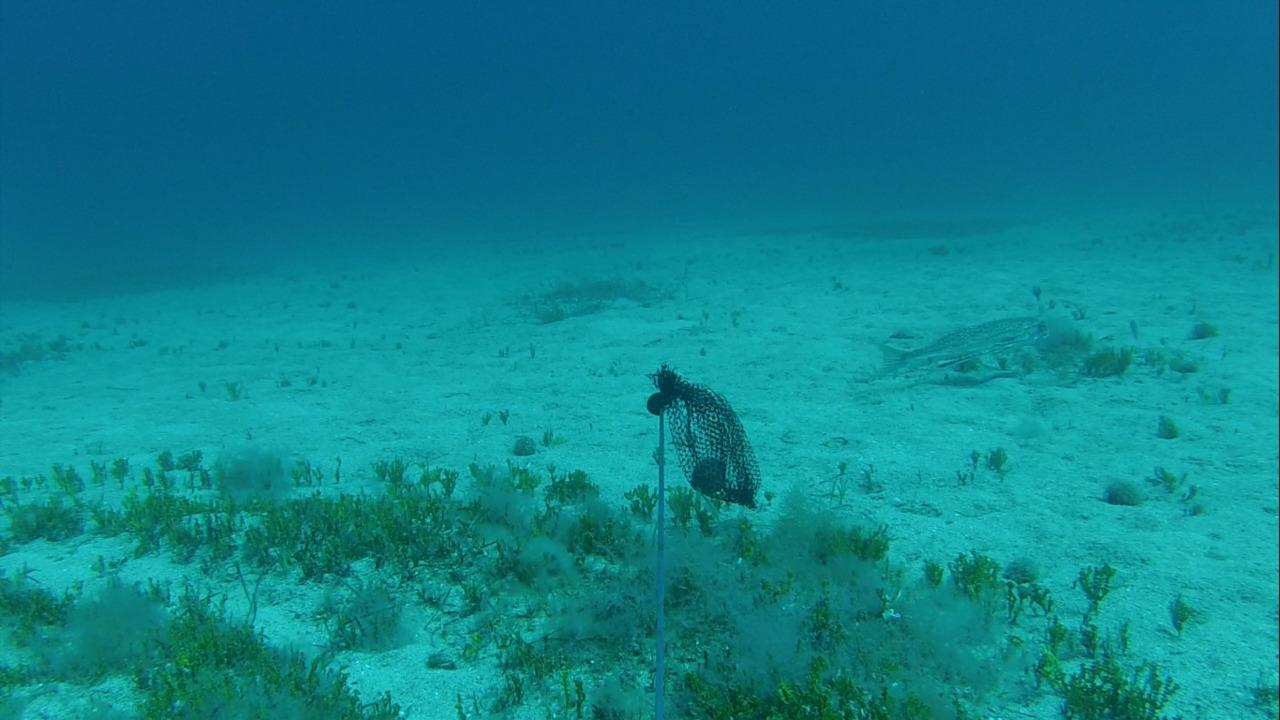dactylopterus: (869, 309, 1057, 377)
